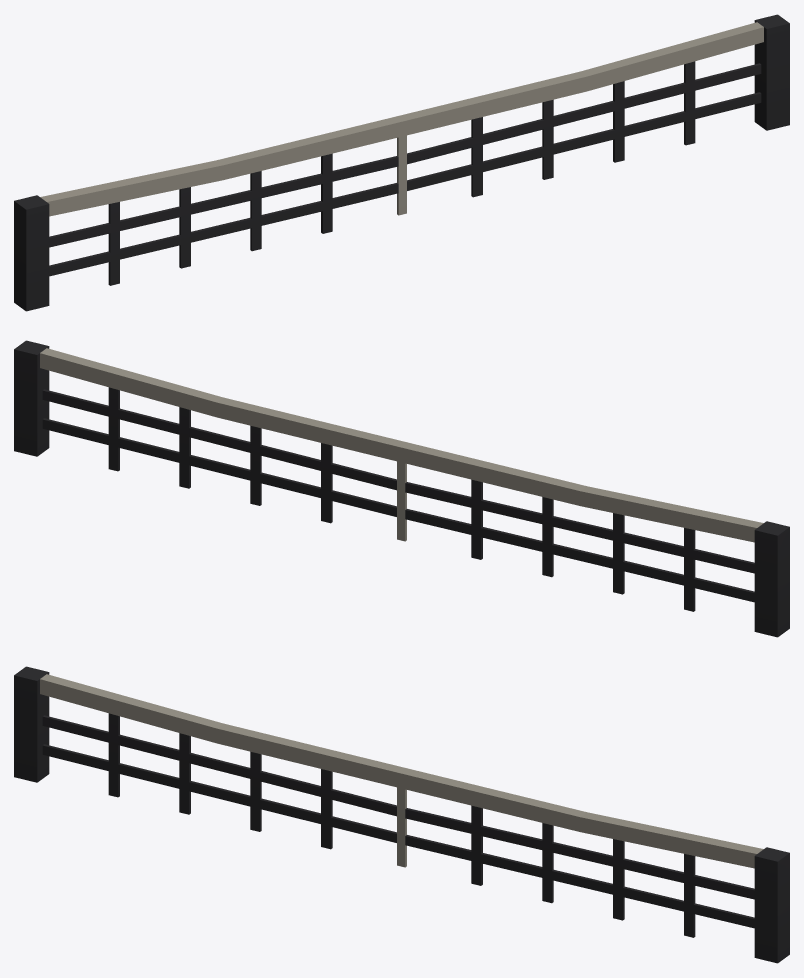
File: tennis net.fbx
3 renders of one model, top to bottom at view 1: azimuth 30°, elevation 25°; view 2: azimuth 150°, elevation 25°; view 3: azimuth 330°, elevation 25°, orthographic.
Visible parts, largest first — view 1: tennis net; view 2: tennis net; view 3: tennis net.
Part boxes in pixels (x1,y1,x2,y2): tennis net: (14, 14, 789, 311); tennis net: (14, 340, 789, 637); tennis net: (14, 666, 789, 963).
Bounding box in the file's own units: 935 × 119 × 25.86.
1 material, 1 textured.
